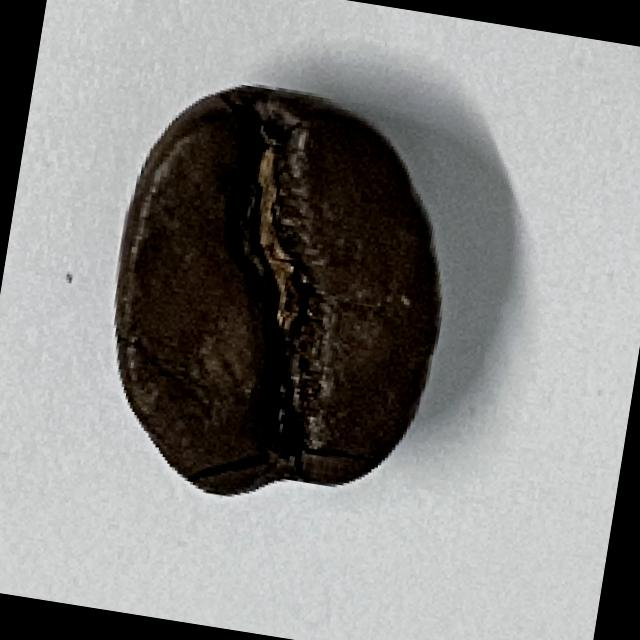bean: (78, 64, 477, 531)
